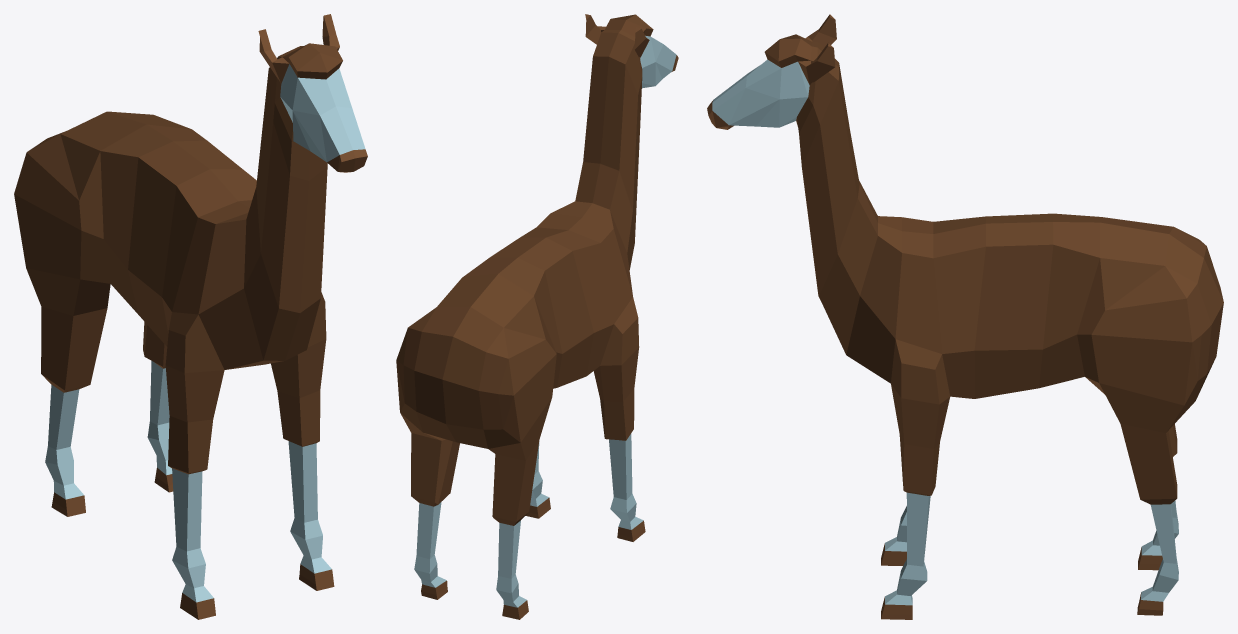
File: cc0-llama-lod0.glb
3 views of the same model, side by side, from view 1: azimuth 30°, elevation 25°; view 2: azimuth 150°, elevation 25°; view 3: azimuth 270°, elevation 25° (orthographic). The views are drawn at different scales.
Parts seen in each view (by area): view 1: part_0; view 2: part_0; view 3: part_0.
Part boxes in pixels (x1,y1,x2,y2): part_0: (14, 14, 367, 619); part_0: (396, 14, 678, 619); part_0: (707, 14, 1223, 619).
Bounding box in the file's own units: 1.57 × 5.86 × 4.91.
